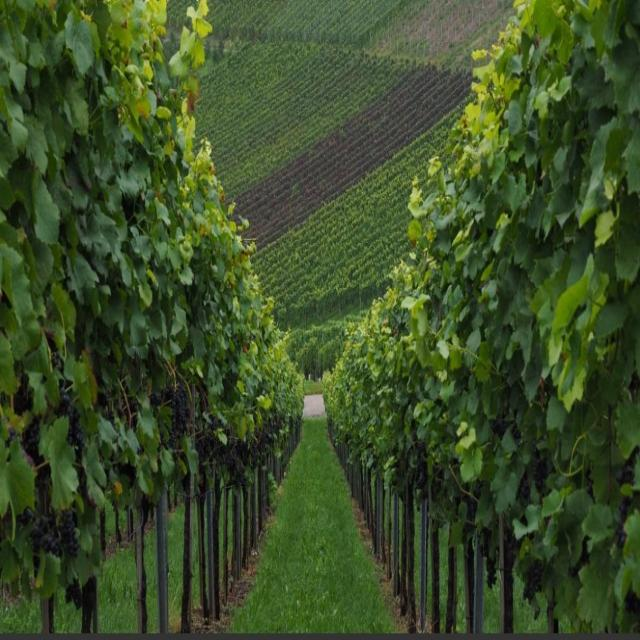row: (196, 416, 420, 636)
